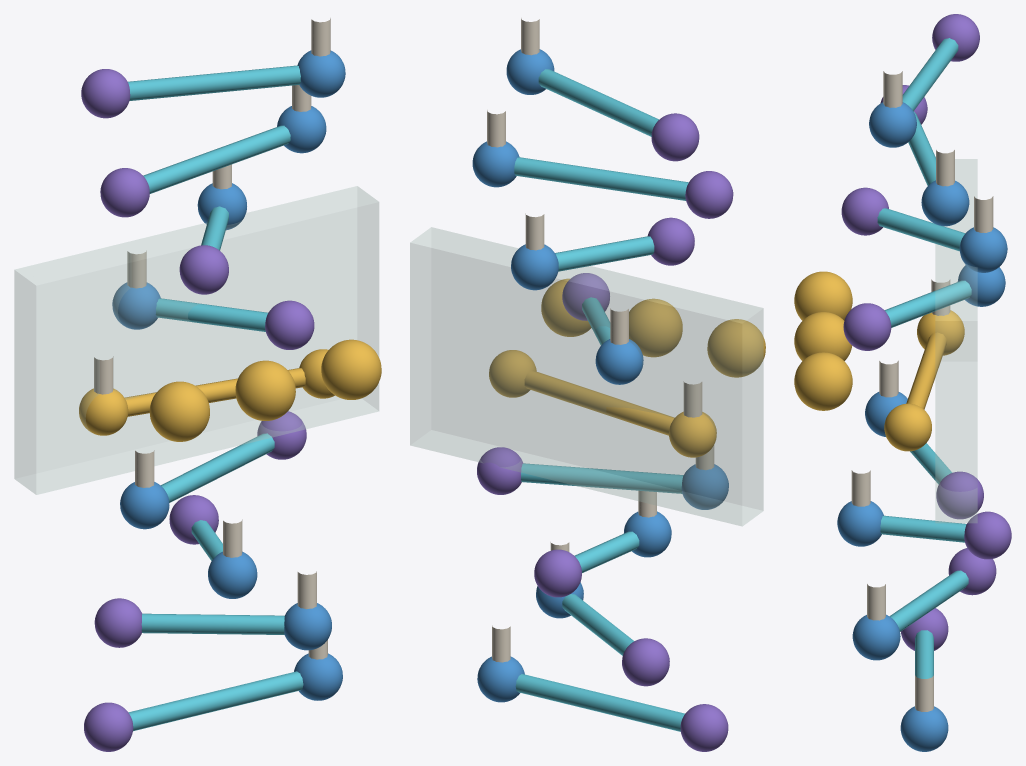
File: bio-genetics-gene.glb
The picture shows the model from 3 angles, left to right: view 1: azimuth 30°, elevation 25°; view 2: azimuth 150°, elevation 25°; view 3: azimuth 270°, elevation 25°; orthographic projection. The views are drawn at different scales.
Visible parts, largest first — view 1: gene-highlight-window, dna-strand-with-gene-segment-paired-base-rung-0, dna-strand-with-gene-segment-paired-base-rung-8, dna-strand-with-gene-segment-paired-base-rung-7, gene-coded-base-1, gene-coded-base-2, gene-coded-base-0, dna-strand-with-gene-segment-paired-base-rung-1, dna-strand-with-gene-segment-paired-base-rung-3, dna-strand-with-gene-segment-paired-base-rung-5, dna-strand-with-gene-segment-base-dot-right-5, dna-strand-with-gene-segment-base-dot-right-0 (+25 smaller); view 2: gene-highlight-window, dna-strand-with-gene-segment-paired-base-rung-7, dna-strand-with-gene-segment-paired-base-rung-0, dna-strand-with-gene-segment-paired-base-rung-3, dna-strand-with-gene-segment-paired-base-rung-4, gene-coded-base-0, gene-coded-base-1, dna-strand-with-gene-segment-paired-base-rung-8, dna-strand-with-gene-segment-paired-base-rung-6, dna-strand-with-gene-segment-base-dot-right-8, dna-strand-with-gene-segment-base-dot-right-0, dna-strand-with-gene-segment-base-dot-right-2 (+25 smaller); view 3: gene-highlight-window, gene-coded-base-2, gene-coded-base-0, gene-coded-base-1, dna-strand-with-gene-segment-base-dot-right-4, dna-strand-with-gene-segment-base-dot-right-5, dna-strand-with-gene-segment-base-dot-right-2, dna-strand-with-gene-segment-base-dot-right-3, dna-strand-with-gene-segment-base-dot-left-1, dna-strand-with-gene-segment-base-dot-left-8, dna-strand-with-gene-segment-base-dot-left-7, dna-strand-with-gene-segment-base-dot-left-0 (+25 smaller).
Boxes of the visible parts, bbox=[...] form: gene-highlight-window: bbox=[14, 186, 378, 494]; dna-strand-with-gene-segment-paired-base-rung-0: bbox=[128, 671, 303, 731]; dna-strand-with-gene-segment-paired-base-rung-8: bbox=[128, 65, 300, 100]; dna-strand-with-gene-segment-paired-base-rung-7: bbox=[143, 125, 290, 193]; gene-coded-base-1: bbox=[235, 360, 295, 420]; gene-coded-base-2: bbox=[321, 339, 381, 399]; gene-coded-base-0: bbox=[149, 381, 209, 441]; dna-strand-with-gene-segment-paired-base-rung-1: bbox=[141, 613, 284, 634]; dna-strand-with-gene-segment-paired-base-rung-3: bbox=[161, 433, 274, 502]; dna-strand-with-gene-segment-paired-base-rung-5: bbox=[155, 298, 267, 331]; dna-strand-with-gene-segment-base-dot-right-5: bbox=[265, 300, 314, 349]; dna-strand-with-gene-segment-base-dot-right-0: bbox=[84, 702, 133, 751]; gene-highlight-window: bbox=[410, 227, 763, 526]; dna-strand-with-gene-segment-paired-base-rung-7: bbox=[514, 157, 688, 200]; dna-strand-with-gene-segment-paired-base-rung-0: bbox=[515, 674, 684, 731]; dna-strand-with-gene-segment-paired-base-rung-3: bbox=[521, 463, 683, 493]; dna-strand-with-gene-segment-paired-base-rung-4: bbox=[524, 370, 674, 435]; gene-coded-base-0: bbox=[707, 319, 765, 377]; gene-coded-base-1: bbox=[629, 298, 682, 357]; dna-strand-with-gene-segment-paired-base-rung-8: bbox=[538, 69, 659, 136]; dna-strand-with-gene-segment-paired-base-rung-6: bbox=[555, 236, 654, 271]; dna-strand-with-gene-segment-base-dot-right-8: bbox=[651, 113, 699, 161]; dna-strand-with-gene-segment-base-dot-right-0: bbox=[680, 704, 728, 751]; dna-strand-with-gene-segment-base-dot-right-2: bbox=[534, 549, 581, 597]; gene-highlight-window: bbox=[935, 159, 977, 522]; gene-coded-base-2: bbox=[794, 352, 852, 410]; gene-coded-base-0: bbox=[794, 271, 852, 320]; gene-coded-base-1: bbox=[794, 312, 852, 361]; dna-strand-with-gene-segment-base-dot-right-4: bbox=[884, 403, 931, 451]; dna-strand-with-gene-segment-base-dot-right-5: bbox=[843, 303, 891, 350]; dna-strand-with-gene-segment-base-dot-right-2: bbox=[964, 511, 1011, 559]; dna-strand-with-gene-segment-base-dot-right-3: bbox=[936, 471, 983, 519]; dna-strand-with-gene-segment-base-dot-left-1: bbox=[852, 614, 900, 660]; dna-strand-with-gene-segment-base-dot-left-8: bbox=[869, 102, 916, 147]; dna-strand-with-gene-segment-base-dot-left-7: bbox=[921, 180, 969, 226]; dna-strand-with-gene-segment-base-dot-left-0: bbox=[900, 706, 948, 751].
Size of what is drawn, in the model's own units: 0.72 by 1.4 by 0.409.
